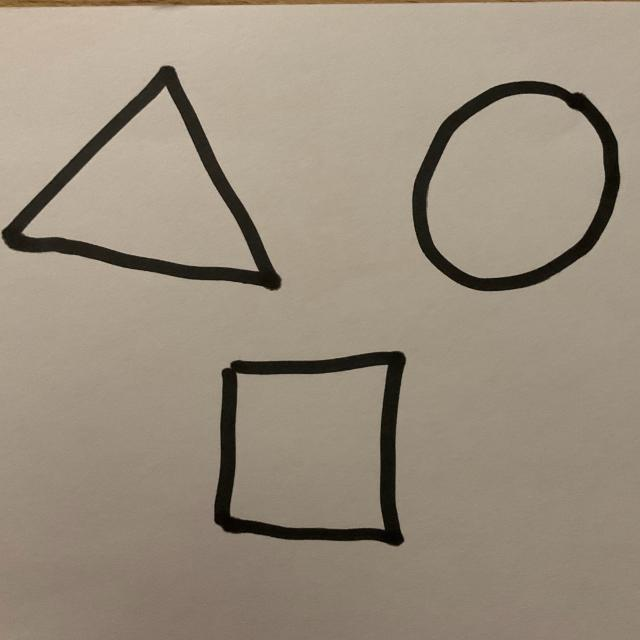Dreieck: (0, 66, 281, 292)
Kreis: (411, 81, 622, 295)
Quadrat: (213, 352, 407, 548)
